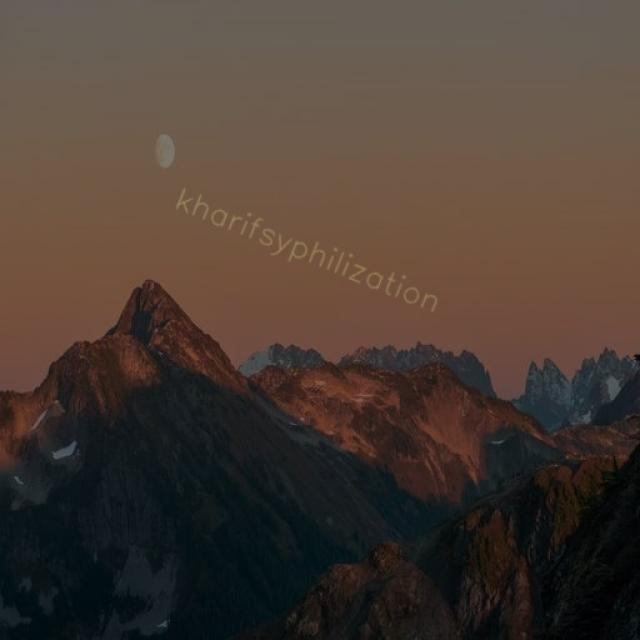watermark: (164, 182, 458, 318)
